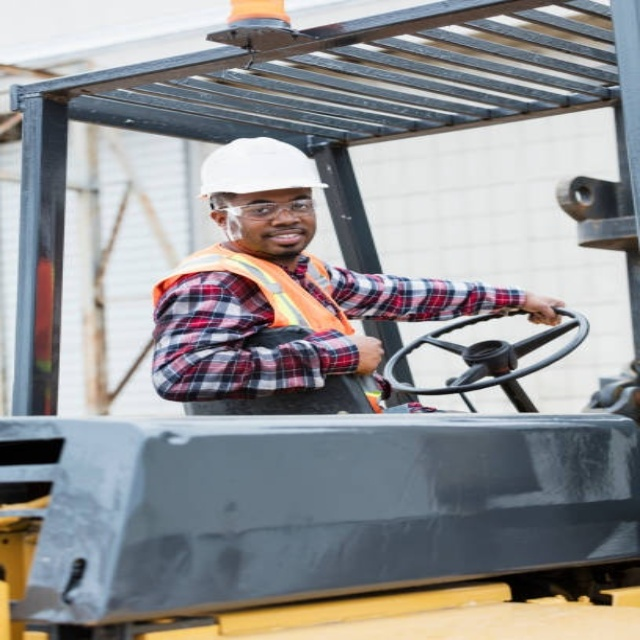Gafas: (217, 198, 319, 220)
Sin_guantes: (516, 291, 568, 324), (347, 332, 387, 374)
Sin_mascara: (257, 225, 311, 251)
